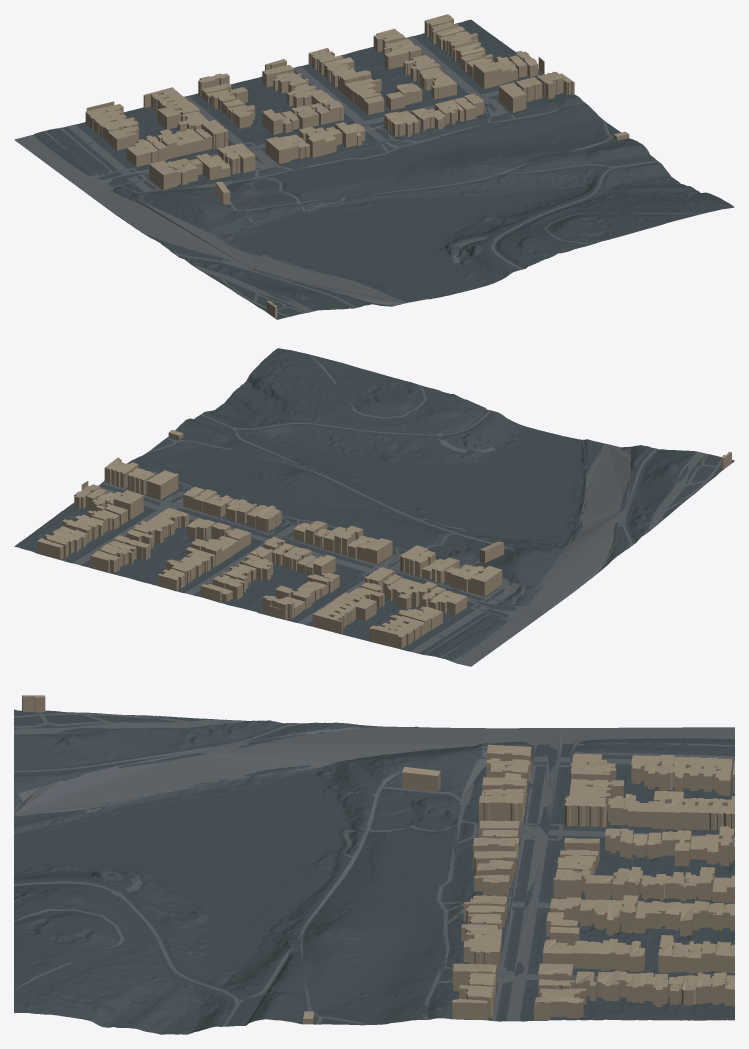
Rendered from epsg26910-1423-10891.lod0.glb.
3 renders of one model, top to bottom at view 1: azimuth 30°, elevation 25°; view 2: azimuth 150°, elevation 25°; view 3: azimuth 270°, elevation 25°, orthographic. The views are drawn at different scales.
Visible parts, largest first — view 1: epsg26910-1423-10891-lod0; view 2: epsg26910-1423-10891-lod0; view 3: epsg26910-1423-10891-lod0.
Boxes of the visible parts, x1,y1,x2,y2 form: epsg26910-1423-10891-lod0: (14, 14, 734, 319); epsg26910-1423-10891-lod0: (14, 348, 734, 666); epsg26910-1423-10891-lod0: (14, 695, 734, 1034).
Size of the model in its own units: 384 by 22.47 by 384.
